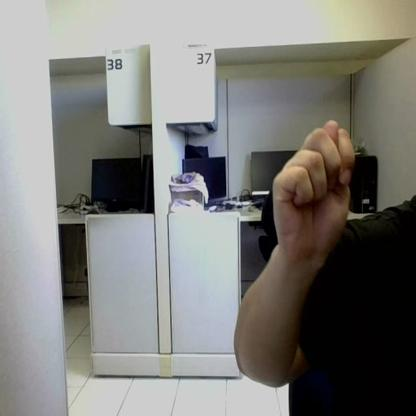T: (272, 120, 353, 250)
